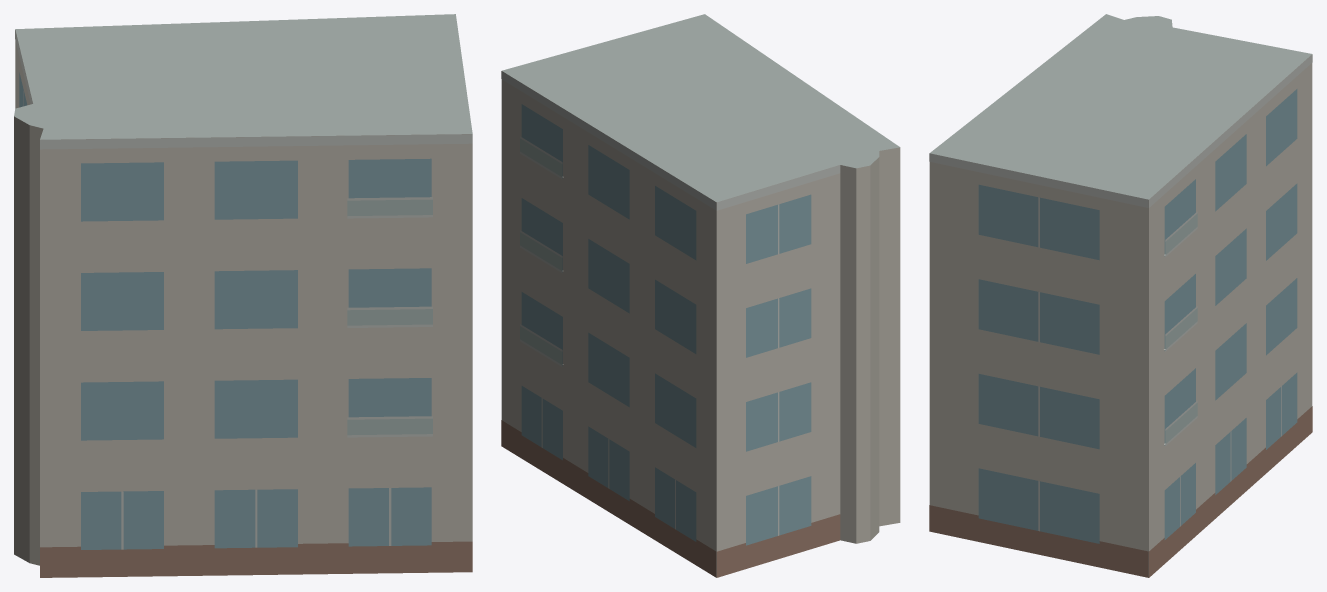
The model's file is survey-upis-32727157.glb.
The picture shows the model from 3 angles, left to right: view 1: azimuth 30°, elevation 25°; view 2: azimuth 150°, elevation 25°; view 3: azimuth 270°, elevation 25°; orthographic projection. The views are drawn at different scales.
Parts seen in each view (by area): view 1: survey-upis-32727157.tmp; view 2: survey-upis-32727157.tmp; view 3: survey-upis-32727157.tmp.
Part boxes in pixels (<box>): survey-upis-32727157.tmp: <box>14,14,472,577</box>; survey-upis-32727157.tmp: <box>501,14,900,577</box>; survey-upis-32727157.tmp: <box>929,14,1312,577</box>.
Bounding box in the file's own units: 11.48 × 10.9 × 10.01.
